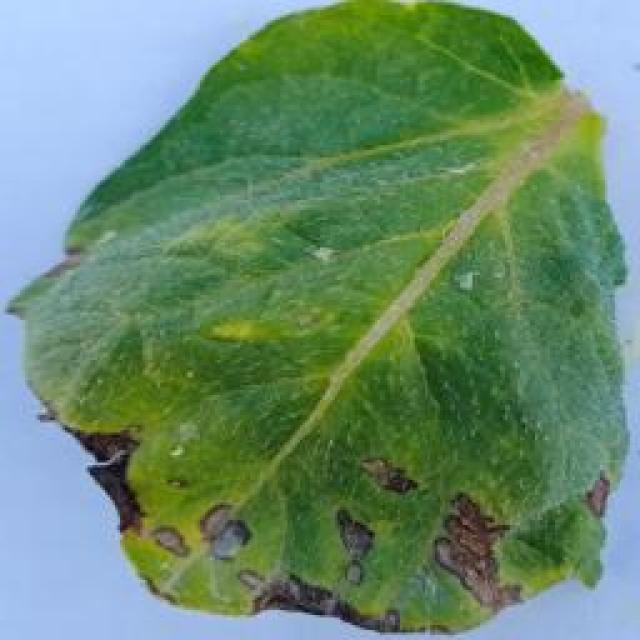Potato_Late_Blight: (11, 8, 635, 632)
